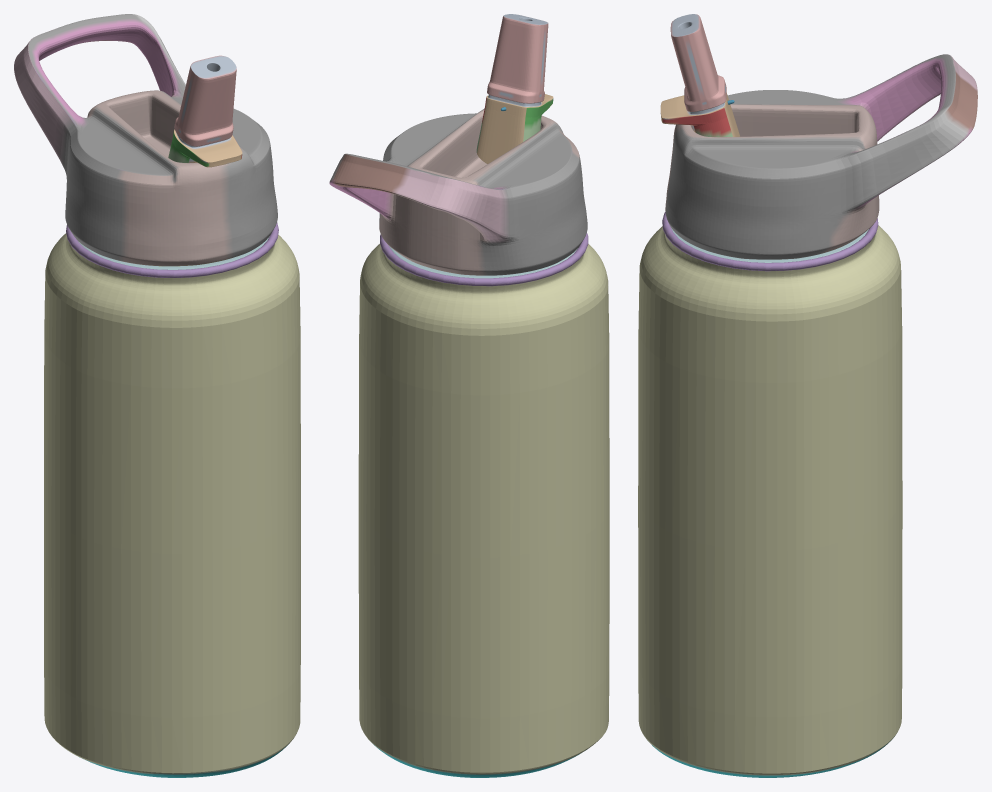
The picture shows the model from 3 angles, left to right: view 1: azimuth 30°, elevation 25°; view 2: azimuth 150°, elevation 25°; view 3: azimuth 270°, elevation 25°; orthographic projection. The views are drawn at different scales.
Parts seen in each view (by area): view 1: 8a5c0fd0d4bc45128f3ee5c65a32e54f.ply; view 2: 8a5c0fd0d4bc45128f3ee5c65a32e54f.ply; view 3: 8a5c0fd0d4bc45128f3ee5c65a32e54f.ply.
Part boxes in pixels (x1,y1,x2,y2): 8a5c0fd0d4bc45128f3ee5c65a32e54f.ply: (14,14,300,777); 8a5c0fd0d4bc45128f3ee5c65a32e54f.ply: (329,14,609,777); 8a5c0fd0d4bc45128f3ee5c65a32e54f.ply: (638,14,977,777).
Size of the model in its own units: 0.5995 by 1.8 by 0.7838.
